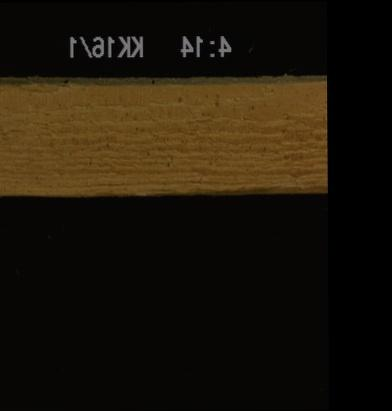wave: (187, 183, 326, 195)
